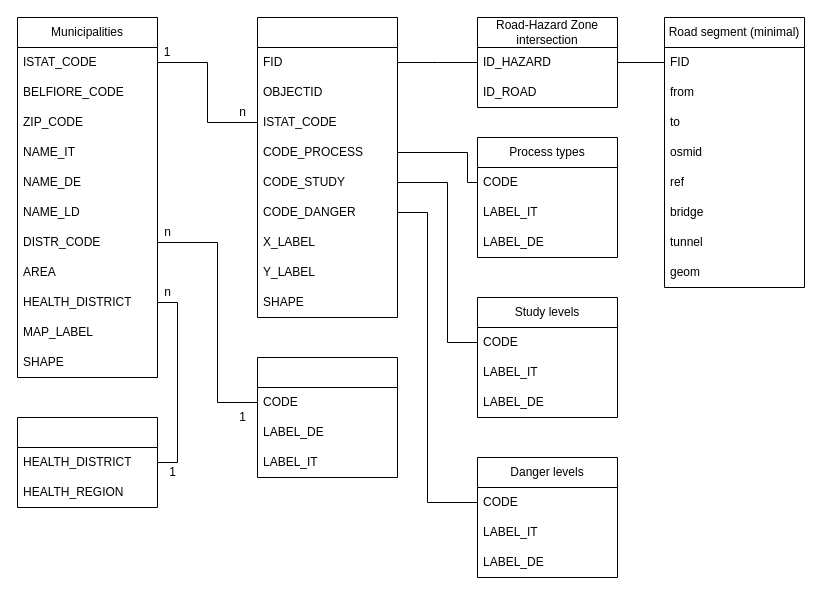
Image size: 822x595. Some labels were removed from this diagram. Each missing label, with the box of its shape:
Districts: (256, 356, 398, 478)
Hazard zones: (256, 16, 398, 318)
Health districts: (16, 416, 158, 508)
